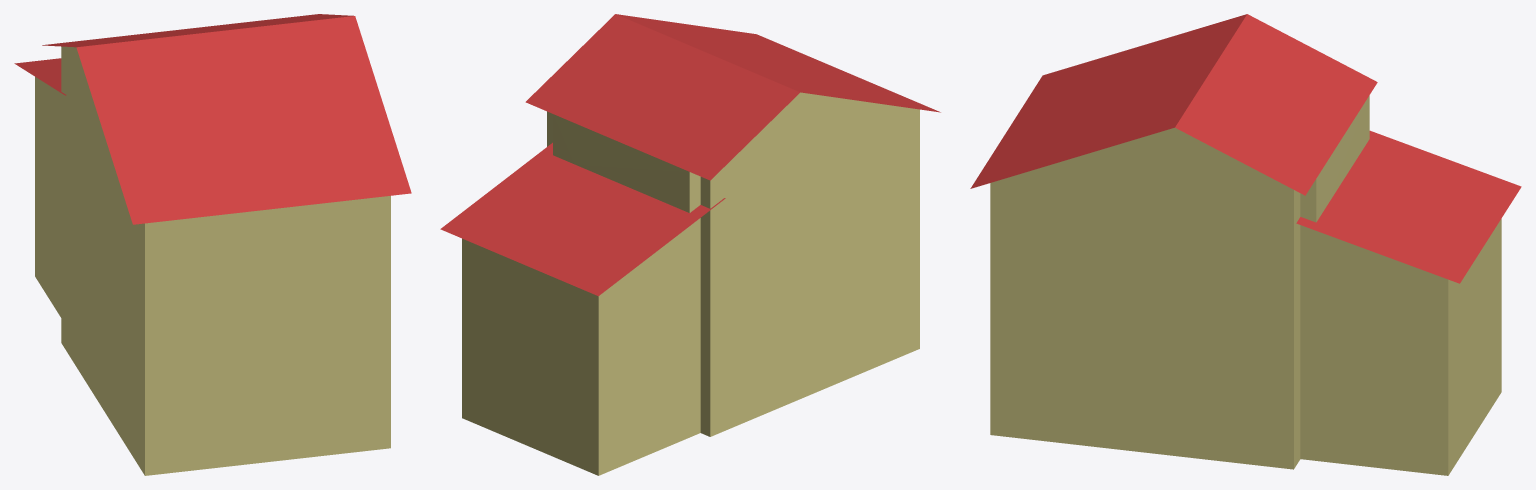
The picture shows the model from 3 angles, left to right: view 1: azimuth 30°, elevation 25°; view 2: azimuth 150°, elevation 25°; view 3: azimuth 270°, elevation 25°; orthographic projection. The views are drawn at different scales.
Parts seen in each view (by area): view 1: group_5, group_3, group_9, group_4, group_7, group_8; view 2: group_5, group_9, group_3, group_7, group_8, group_4; view 3: group_5, group_3, group_9, group_7, group_8, group_4.
Part boxes in pixels (x1,y1,x2,y2): group_5: (61,46,390,475); group_3: (42,14,411,224); group_9: (35,77,61,317); group_4: (42,14,349,213); group_7: (14,58,66,95); group_8: (15,59,61,91); group_5: (547,92,919,437); group_9: (462,226,689,475); group_3: (525,14,940,180); group_7: (440,142,725,296); group_8: (443,205,709,295); group_4: (526,14,898,180); group_5: (990,95,1369,469); group_3: (970,14,1377,195); group_9: (1316,219,1501,475); group_7: (1296,130,1521,283); group_8: (1369,131,1520,282); group_4: (1083,14,1377,195).
Size of the model in its own units: 11.4 by 16.8 by 11.28.
